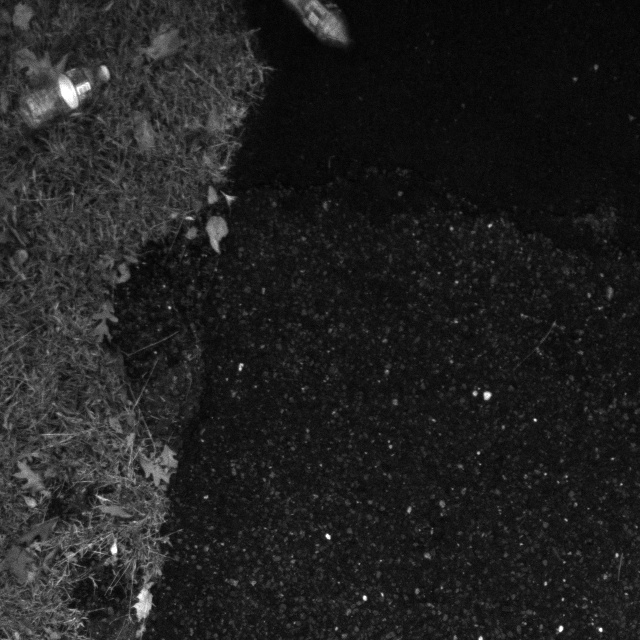bottle: (10, 47, 119, 133)
